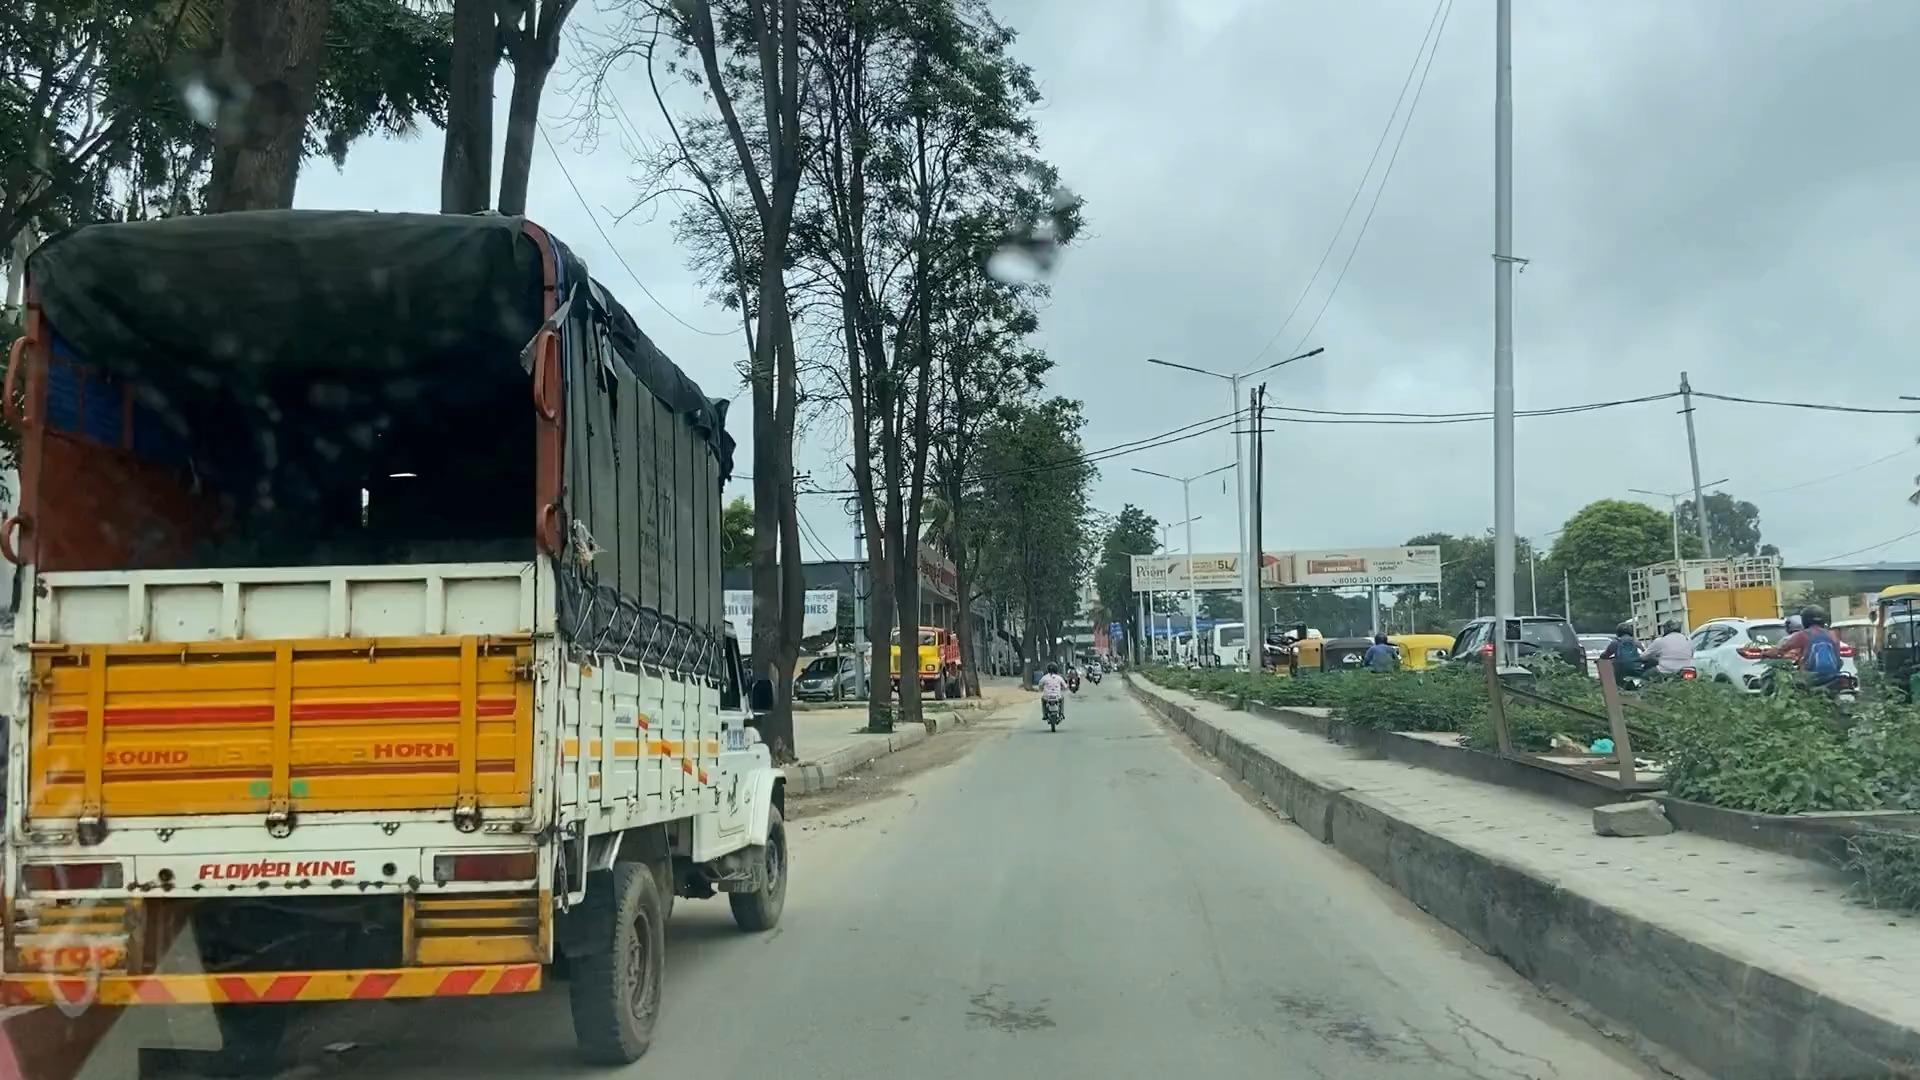HMV: (24, 227, 649, 1050)
RoadDamages: (1280, 973, 1548, 1080), (956, 971, 1064, 1047)
